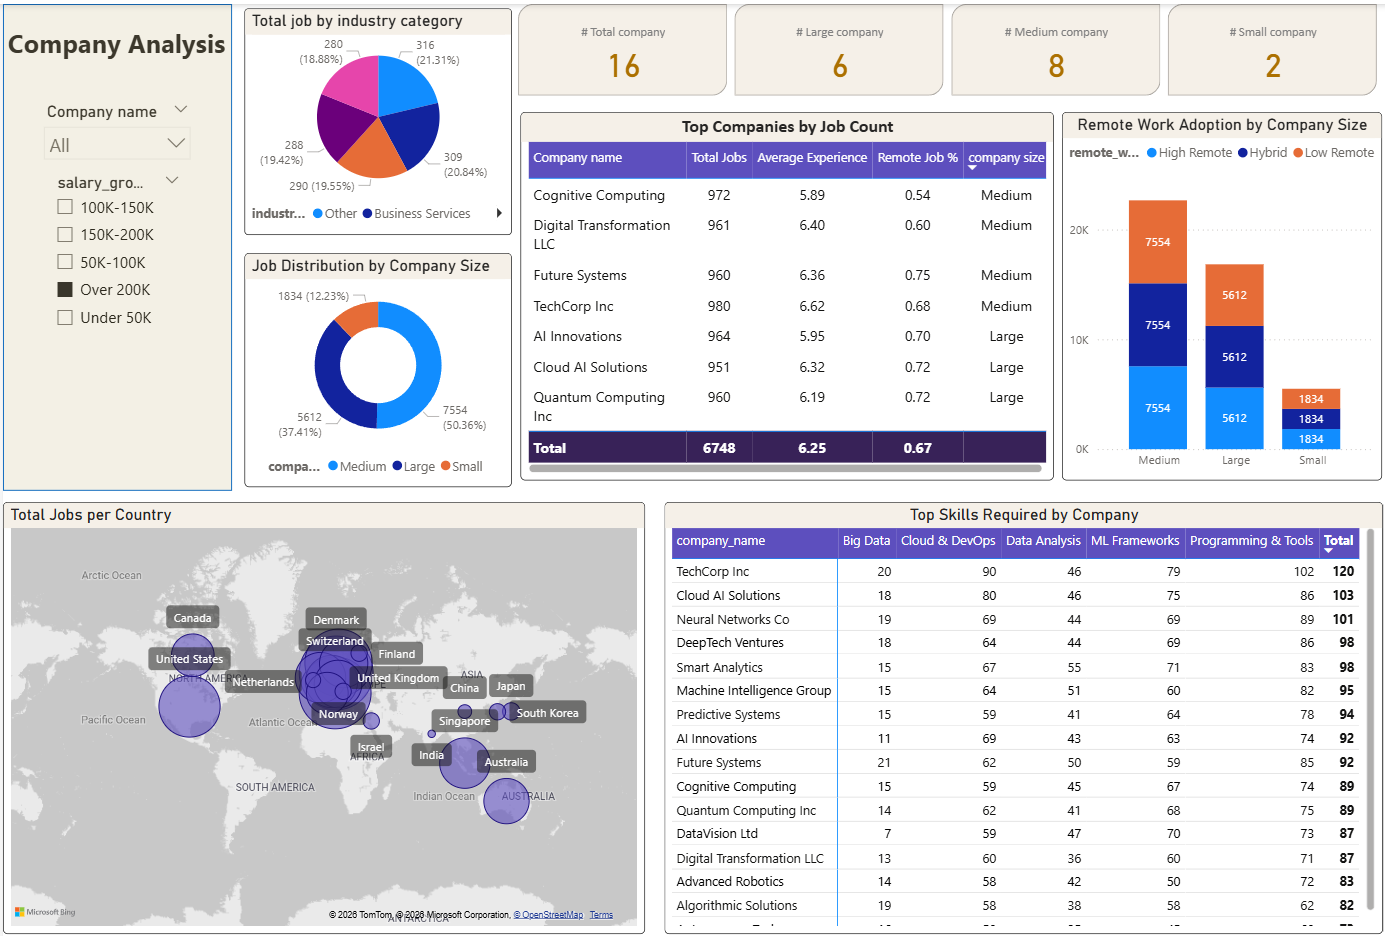

Layout of this report page (visuals, bound fields, positions):
{"tool":"powerbi","page":{"name":"phân tích các công ty ","canvas":[2000,1000],"ordinal":1},"visuals":[{"type":"textbox","box":[0,16.7,271.7,68.3],"z":0},{"type":"tableEx","title":"Top Companies by Job Count","fields":{"Values":["DIM_COMPANIES.company_name","Table.Total Jobs per Company","Table.Avg Experience per Company","Table.Remote Job %","DIM_COMPANIES.company_size_description"]},"box":[542.5,113.8,558.8,386.2],"z":1000},{"type":"donutChart","title":"Job Distribution by Company Size","fields":{"Category":["DIM_COMPANIES.company_size_description"],"Y":["Table.Total Jobs per Company"]},"box":[253.8,261.2,280,245],"z":2000},{"type":"slicer","title":"uytjty","fields":{"Values":["Fact_Jobs.company_name"]},"box":[33.3,96.7,173.3,75],"z":3000},{"type":"columnChart","title":"Remote Work Adoption by Company Size","fields":{"Category":["DIM_COMPANIES.company_size_description"],"Y":["Table.Total Jobs per Company"],"Series":["Fact_Jobs.remote_work_level"]},"box":[1110,113.8,335,386.2],"z":4000},{"type":"pivotTable","title":"Top Skills Required by Company","fields":{"Rows":["DIM_COMPANIES.company_name"],"Values":["Table.Skills by Company"],"Columns":["DIM_SKILL.skill_category"]},"box":[692.5,521.2,752.5,452.5],"z":5000},{"type":"map","title":"Total Jobs per Country ","fields":{"Category":["DIM_LOCATIONS.country_name"],"Size":["Measurce 2.Total Jobs per Country"]},"box":[0,521.2,672.5,452.5],"z":6000},{"type":"slicer","fields":{"Values":["Fact_Jobs.salary_group"]},"box":[43.3,171.7,153.3,178.3],"z":7000},{"type":"shape","box":[0,0,240,510],"z":8000},{"type":"cardVisual","title":"Average Salary","fields":{"Data":["Count(DIM_COMPANIES.company_name)","DIM_COMPANIES.L companny","DIM_COMPANIES.M companic","DIM_COMPANIES.Small compant count"]},"box":[534,0,912,96],"z":9000},{"type":"pieChart","title":"Total  job by industry category","fields":{"Y":["CountNonNull(Fact_Jobs.job_id)"],"Category":["DIM_INDUSTRIES.industry_category"]},"box":[253.4,5.4,280.3,237.2],"z":10000}]}

Visuals, with their boxes on the page's 2000x1000 design canvas (x1, y1, x2, y2). These are canvas units, not pixel positions in the 1385x936 screenshot, which may show the page scaled, cropped or inside an application window:
textbox: x1=0, y1=17, x2=272, y2=85
"Top Companies by Job Count" tableEx: x1=542, y1=114, x2=1101, y2=500
"Job Distribution by Company Size" donutChart: x1=254, y1=261, x2=534, y2=506
"uytjty" slicer: x1=33, y1=97, x2=207, y2=172
"Remote Work Adoption by Company Size" columnChart: x1=1110, y1=114, x2=1445, y2=500
"Top Skills Required by Company" pivotTable: x1=692, y1=521, x2=1445, y2=974
"Total Jobs per Country " map: x1=0, y1=521, x2=672, y2=974
slicer - Fact_Jobs.salary_group: x1=43, y1=172, x2=197, y2=350
shape: x1=0, y1=0, x2=240, y2=510
"Average Salary" cardVisual: x1=534, y1=0, x2=1446, y2=96
"Total  job by industry category" pieChart: x1=253, y1=5, x2=534, y2=243
